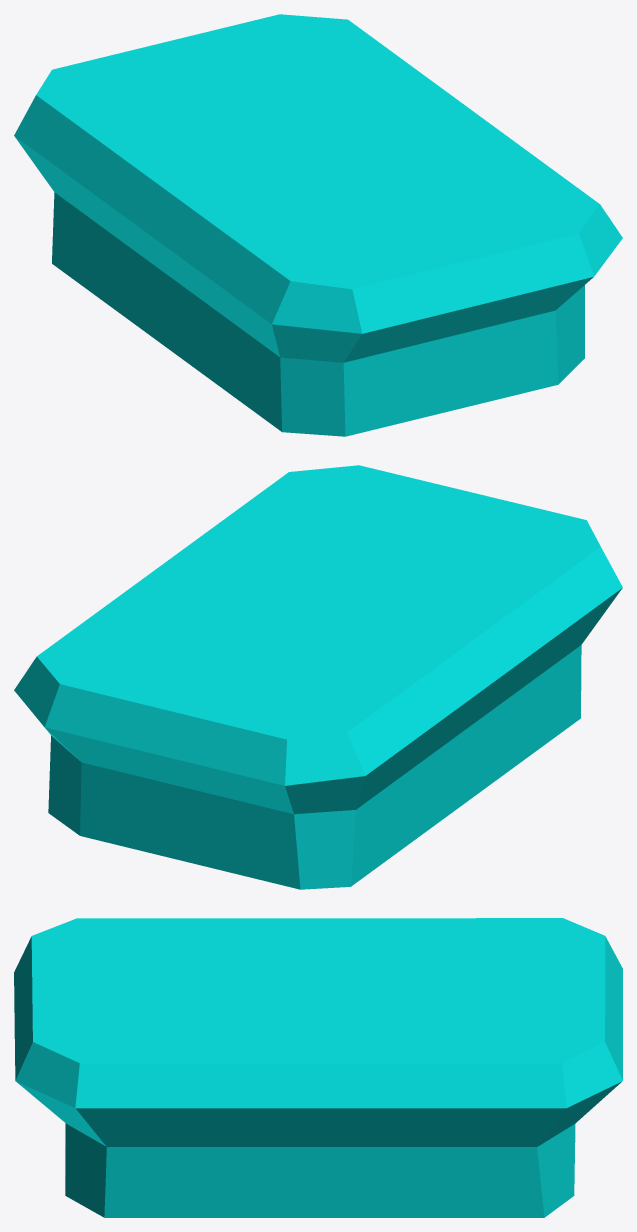
File: SM_Prop_Hologram_Table_02_Collision.fbx
3 renders of one model, top to bottom at view 1: azimuth 30°, elevation 25°; view 2: azimuth 150°, elevation 25°; view 3: azimuth 270°, elevation 25°, orthographic. The views are drawn at different scales.
Visible parts, largest first — view 1: SM_Prop_Hologram_Table_02_Collision; view 2: SM_Prop_Hologram_Table_02_Collision; view 3: SM_Prop_Hologram_Table_02_Collision.
Boxes of the visible parts, x1,y1,x2,y2 form: SM_Prop_Hologram_Table_02_Collision: (14, 14, 622, 436); SM_Prop_Hologram_Table_02_Collision: (14, 465, 622, 889); SM_Prop_Hologram_Table_02_Collision: (14, 918, 622, 1217).
Bounding box in the file's own units: 215 × 94.89 × 336.
